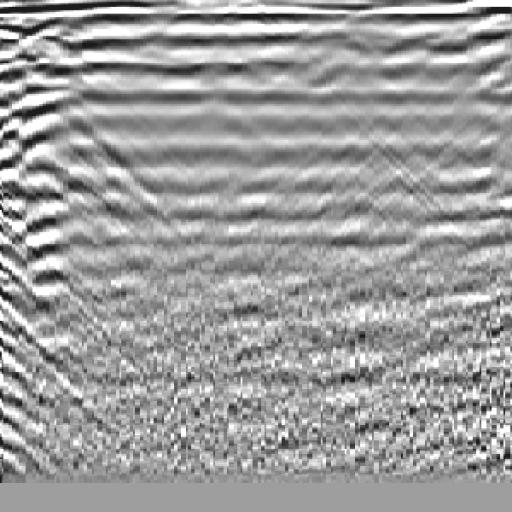metalic: (1, 32, 192, 329)
